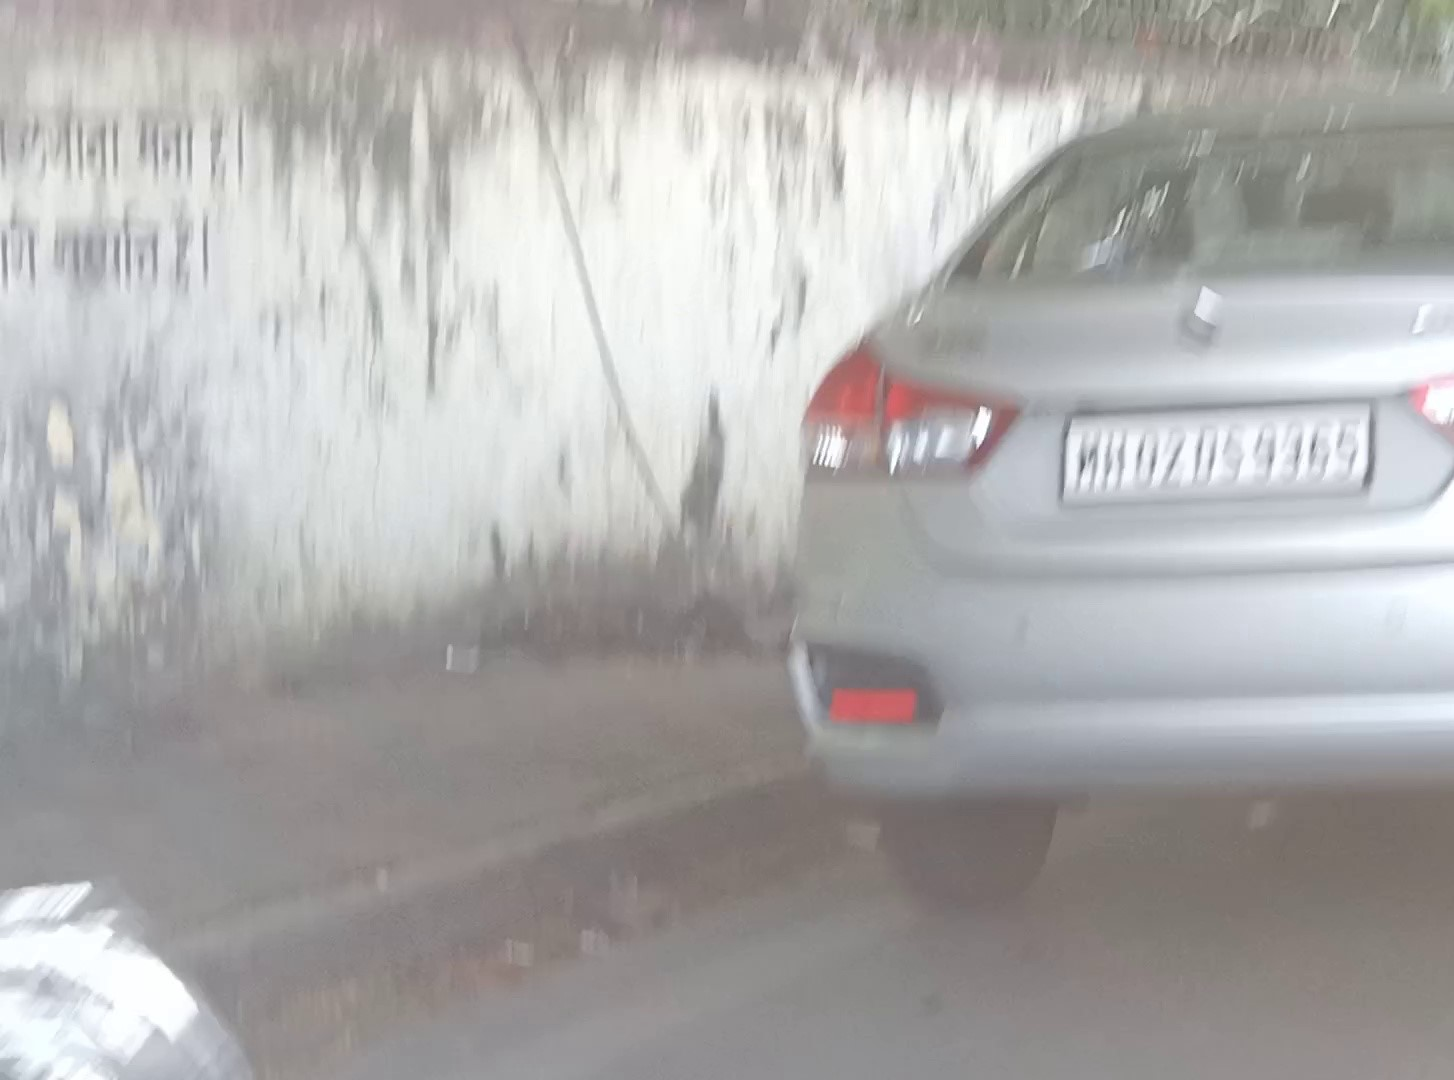MH02DS9365: (1065, 402, 1373, 495)
